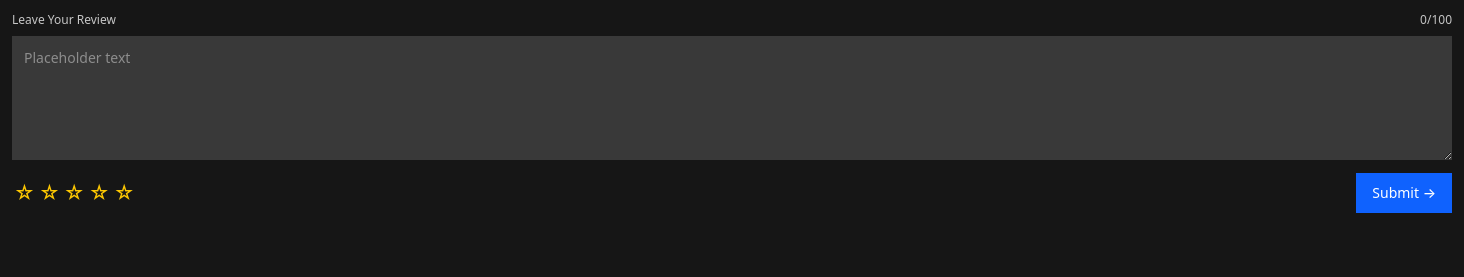
Test: ReviewForm › shows validation errors and does not submit an empty review
Click the button "Submit →": [1404, 193] box [1356,173,1452,213]
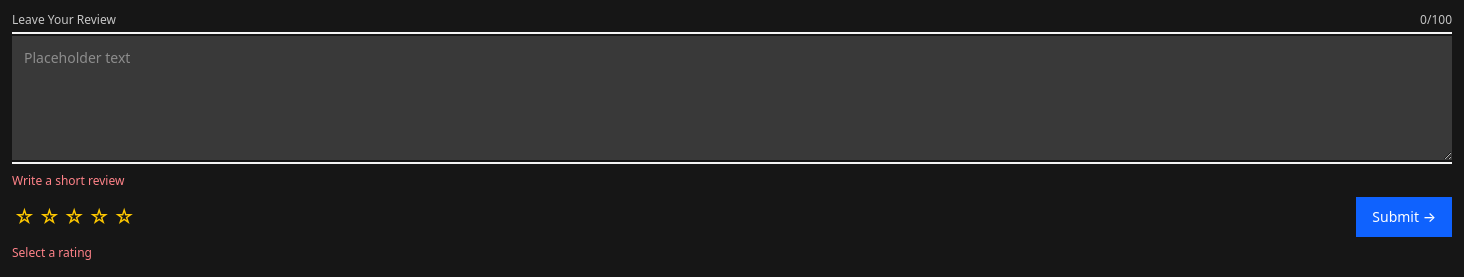
Result: the text "Write a short review" is shown at [12,172,124,189]
